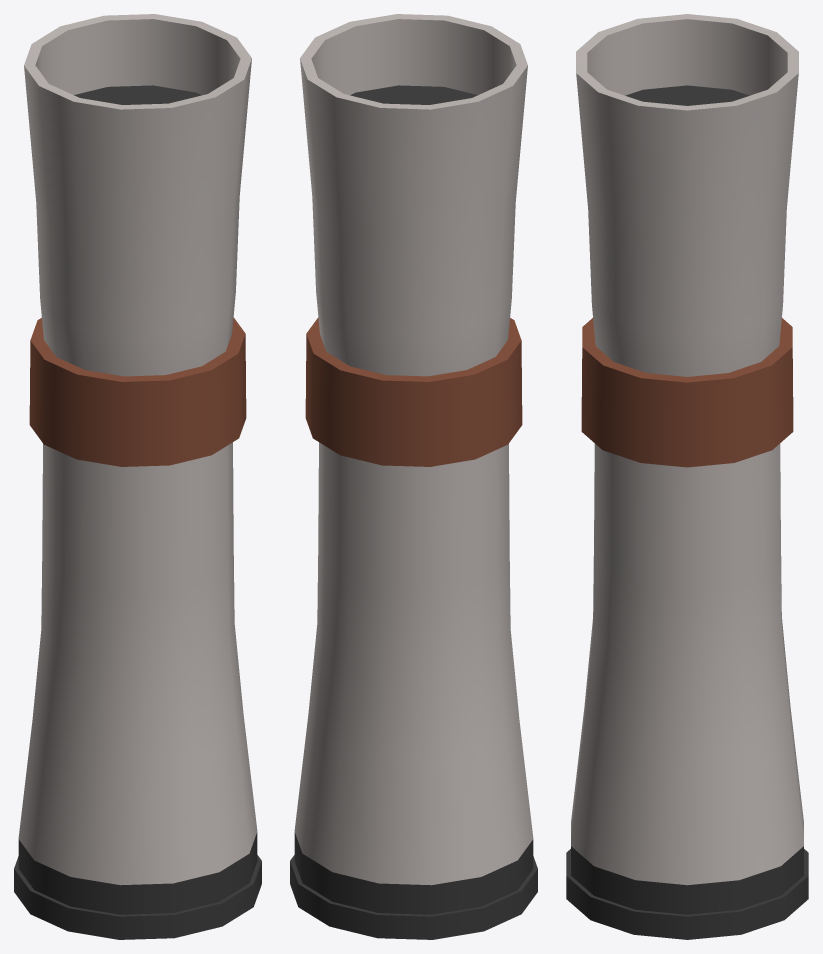
Rendered from Silo.fbx.
3 views of the same model, side by side, from view 1: azimuth 30°, elevation 25°; view 2: azimuth 150°, elevation 25°; view 3: azimuth 270°, elevation 25° (orthographic).
Parts seen in each view (by area): view 1: pCylinder1; view 2: pCylinder1; view 3: pCylinder1.
Boxes of the visible parts, x1=… form: pCylinder1: x1=14, y1=14, x2=261, y2=939; pCylinder1: x1=290, y1=14, x2=537, y2=939; pCylinder1: x1=566, y1=14, x2=808, y2=939.
Size of the model in its own units: 5.64 by 20.68 by 5.5.
